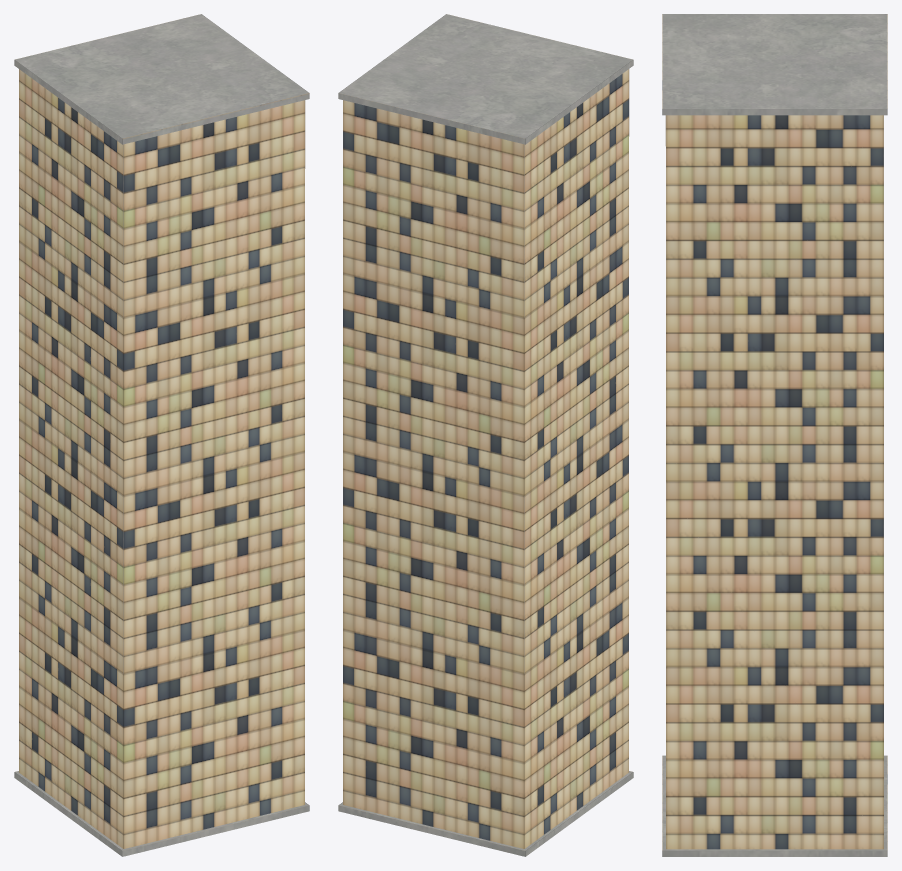
File: building_07.1.glb
The picture shows the model from 3 angles, left to right: view 1: azimuth 30°, elevation 25°; view 2: azimuth 150°, elevation 25°; view 3: azimuth 270°, elevation 25°; orthographic projection. The views are drawn at different scales.
Visible parts, largest first — view 1: building_07.1; view 2: building_07.1; view 3: building_07.1.
Part boxes in pixels (x1,y1,x2,y2): building_07.1: (14,14,309,856); building_07.1: (338,14,633,856); building_07.1: (662,14,887,856).
Bounding box in the file's own units: 33 × 121 × 33.
Materials: 1 (1 with a texture image).
